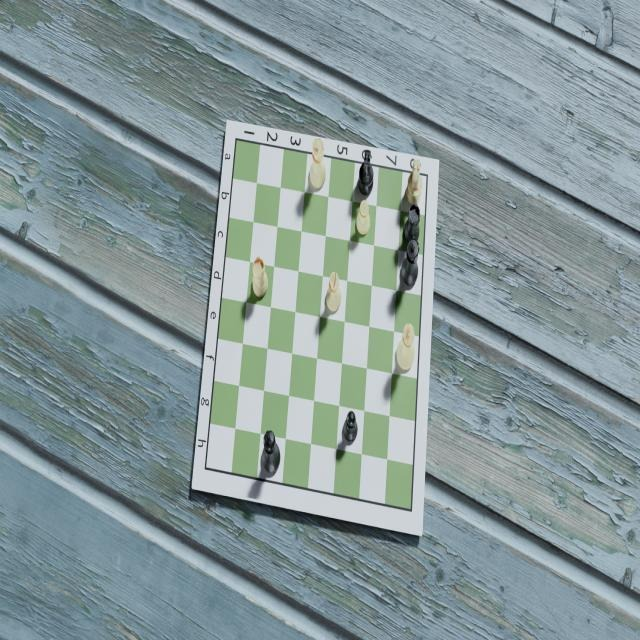black-king: (259, 429, 280, 475)
black-knight: (358, 149, 376, 199)
black-pawn: (341, 407, 359, 444)
black-queen: (400, 237, 419, 291)
black-rook: (402, 203, 422, 249)
white-bishop: (323, 267, 341, 312)
white-king: (396, 322, 416, 374)
white-knight: (404, 158, 424, 207)
white-pawn: (356, 199, 372, 238)
white-queen: (308, 138, 327, 191)
white-rook: (248, 253, 267, 298)
